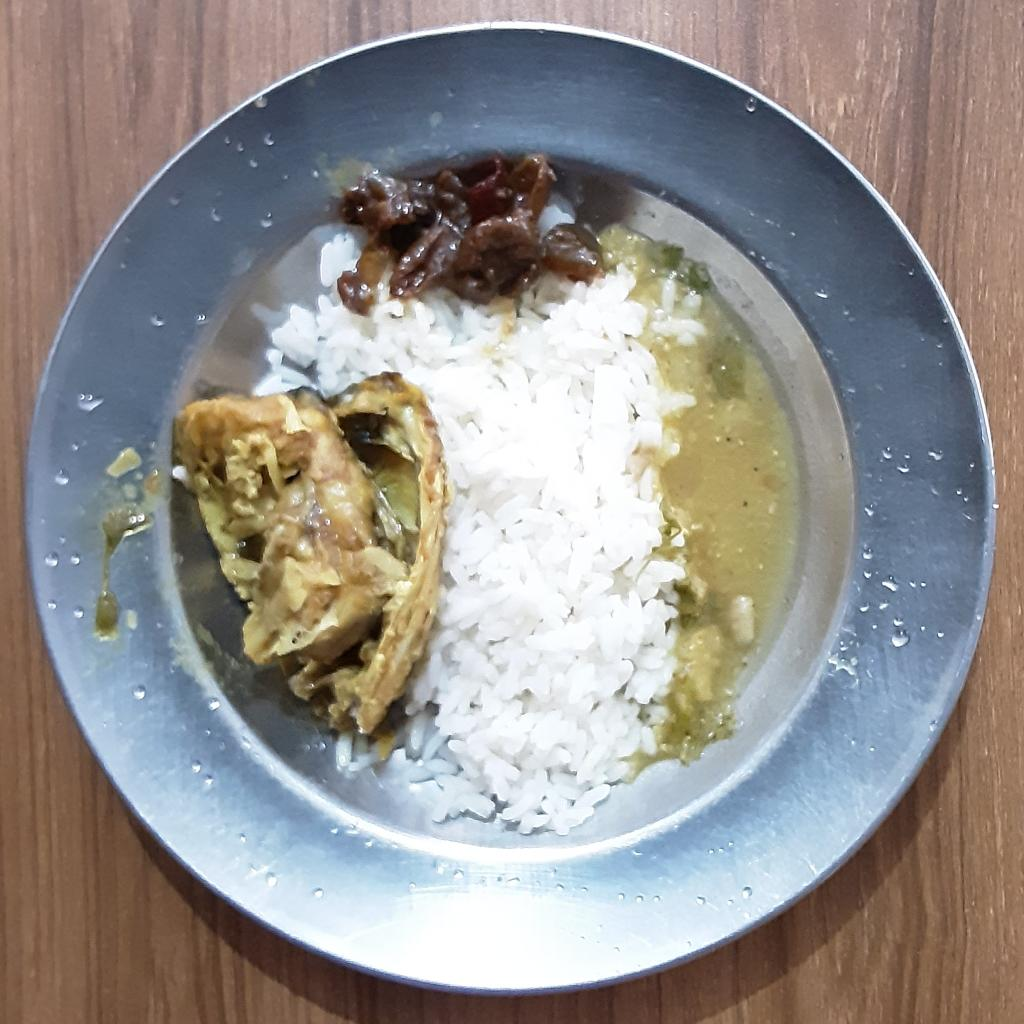daal: (605, 216, 805, 762)
fish: (168, 367, 449, 748)
rice: (256, 230, 719, 836)
